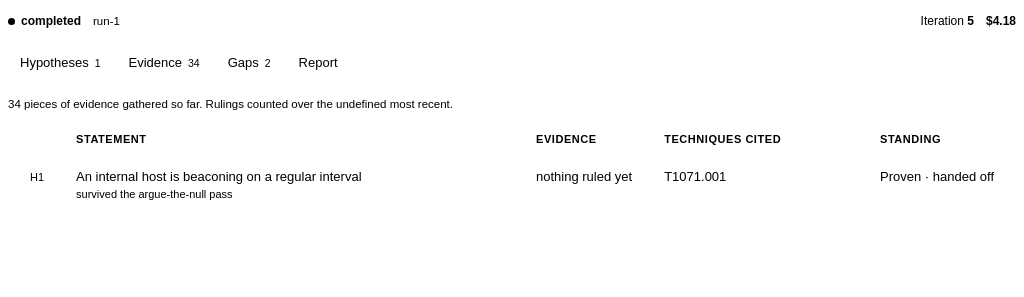
Test: gaps read as questions, not as workers › keeps every distinct reason
The width and height of the screenshot is (1024, 297).
Click the tab "Gaps2": (249, 62) left=216, top=49, right=283, bottom=76
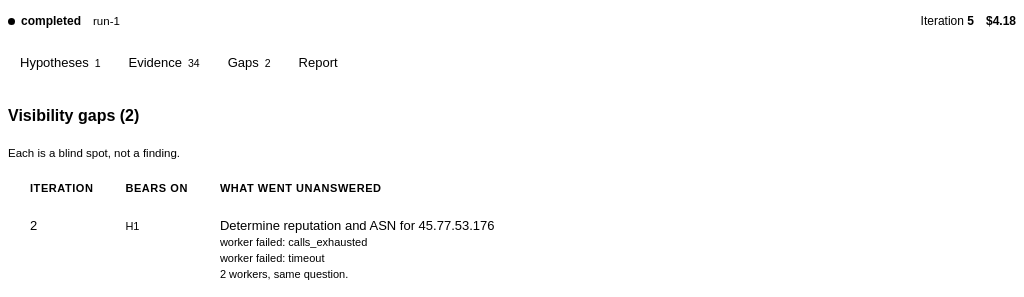
expect the text "worker failed: calls_exhausted" is shown: met, box left=220, top=236, right=367, bottom=248
expect the text "worker failed: timeout" is shown: met, box left=220, top=252, right=324, bottom=264
